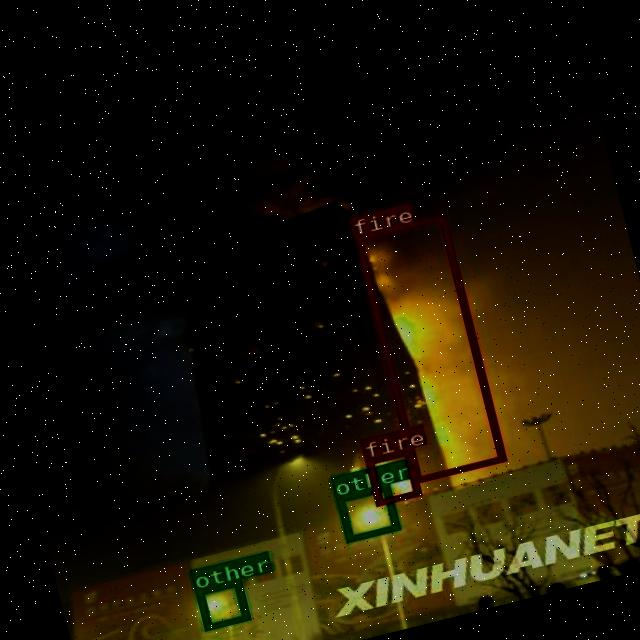fire: (352, 212, 504, 482), (362, 448, 420, 505)
